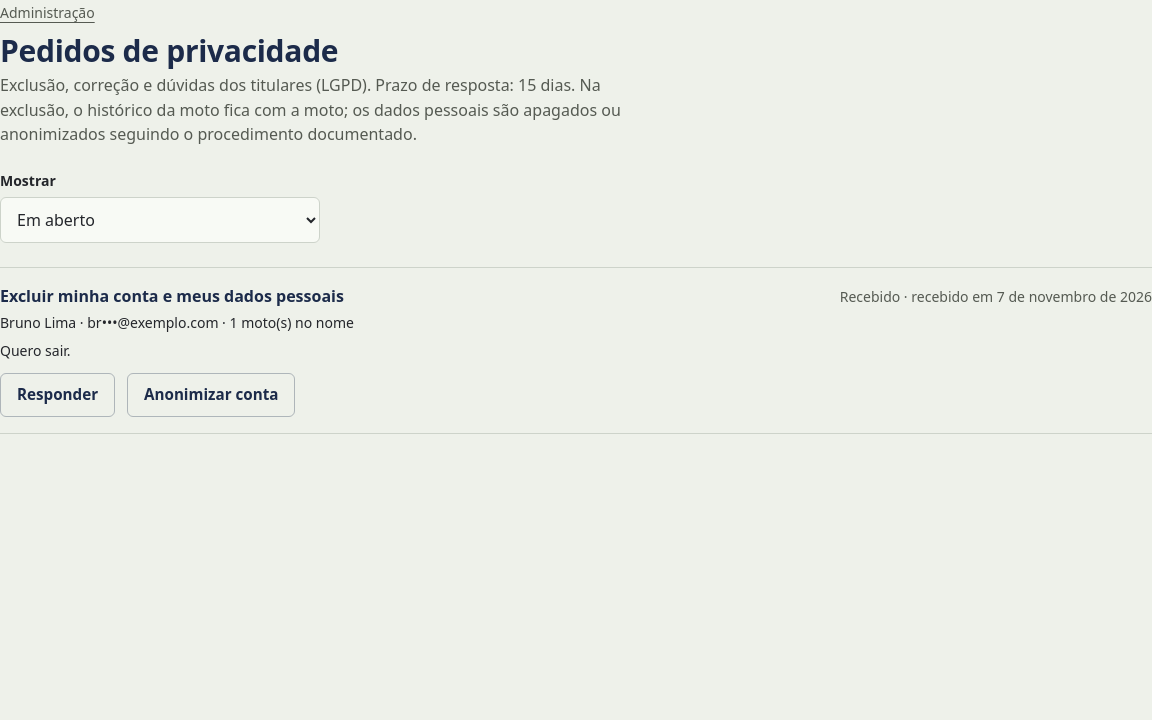
Test: Pedidos de privacidade no admin › responde com resposta ao titular e motivo
Check: the text "Bruno Lima · br•••@exemplo.com · 1 moto(s) no nome" is shown, box x1=0 y1=313 x2=354 y2=332
Step 1. Click the button "Responder" → (58, 395), box x1=0 y1=373 x2=115 y2=417
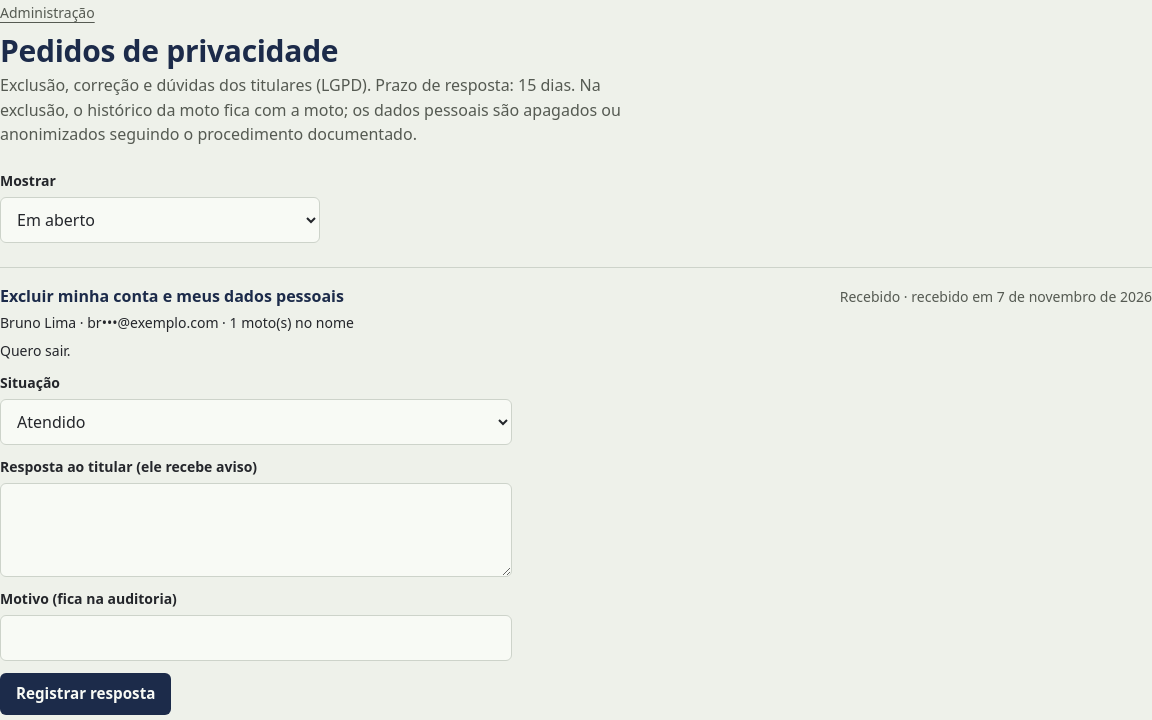
Step 2. Click the button "Registrar resposta" → (86, 694), box x1=0 y1=673 x2=171 y2=715
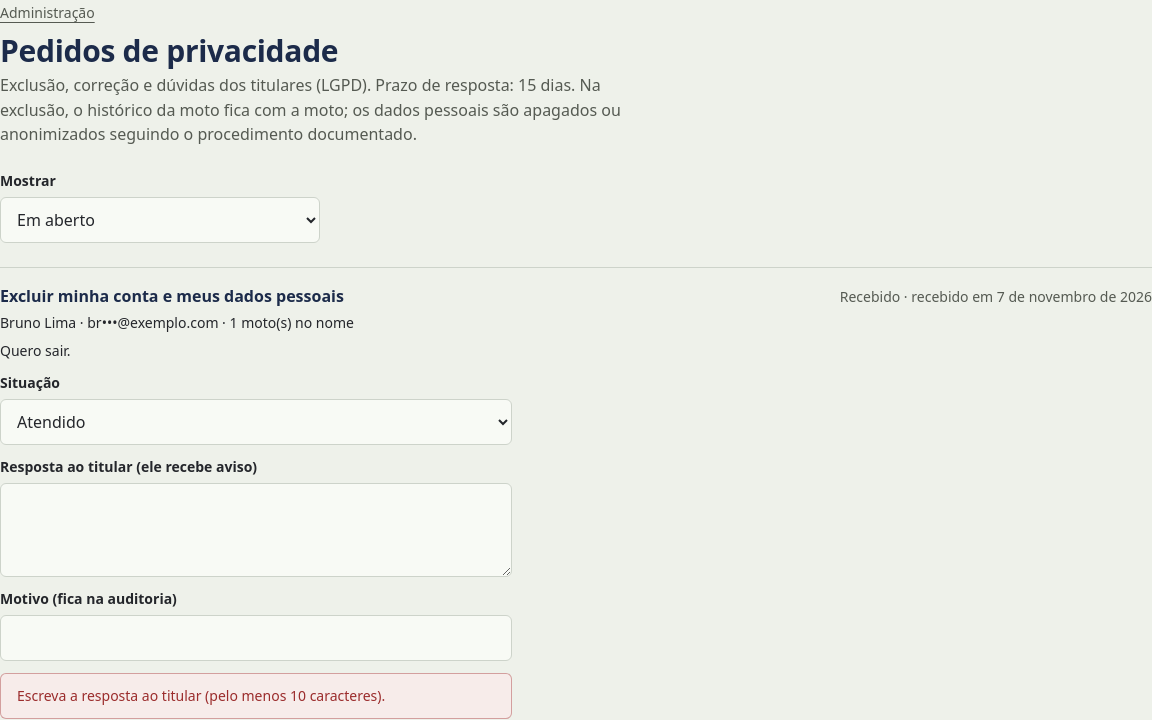
Check: the text "Escreva a resposta ao titular (pelo menos 10 caracteres)." is shown, box x1=17 y1=686 x2=385 y2=705
Step 3. Type "Sua conta foi excluída e os dados anonimizados." into the text box labelled "Resposta ao titular (ele recebe aviso)" → (256, 530), box x1=0 y1=483 x2=512 y2=577
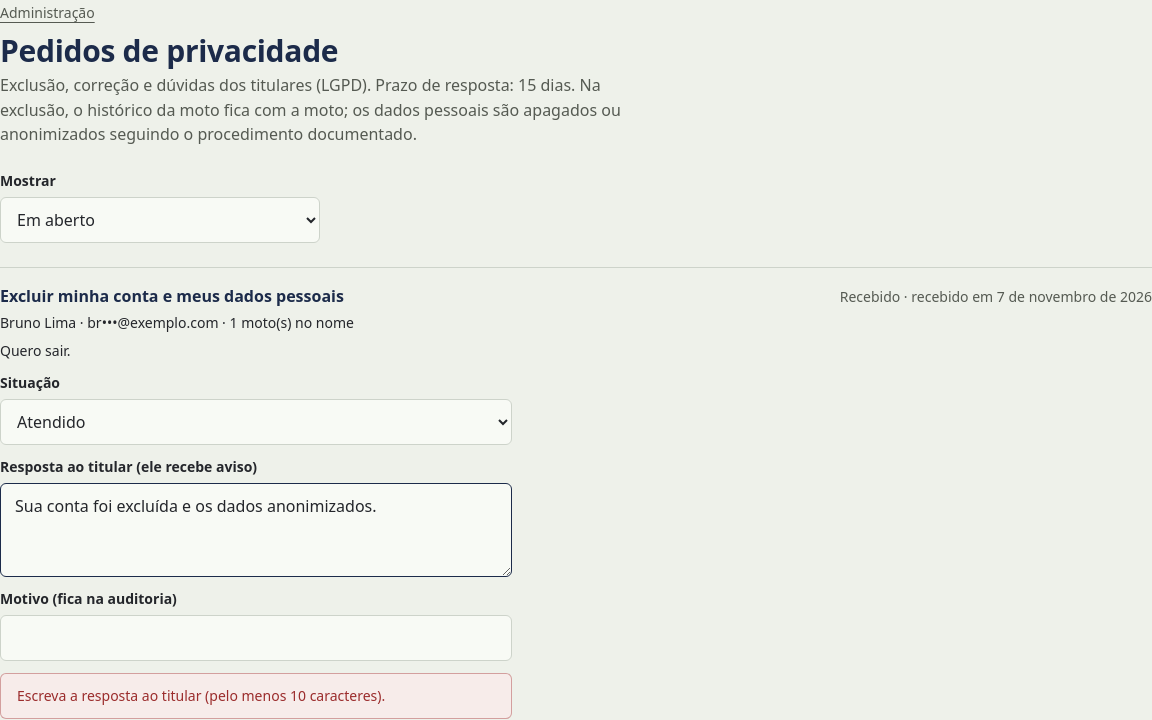
Step 4. Type "Exclusão conforme procedimento LGPD" into the field labelled "Motivo (fica na auditoria)" → (256, 638), box x1=0 y1=615 x2=512 y2=661
(page scrolled)
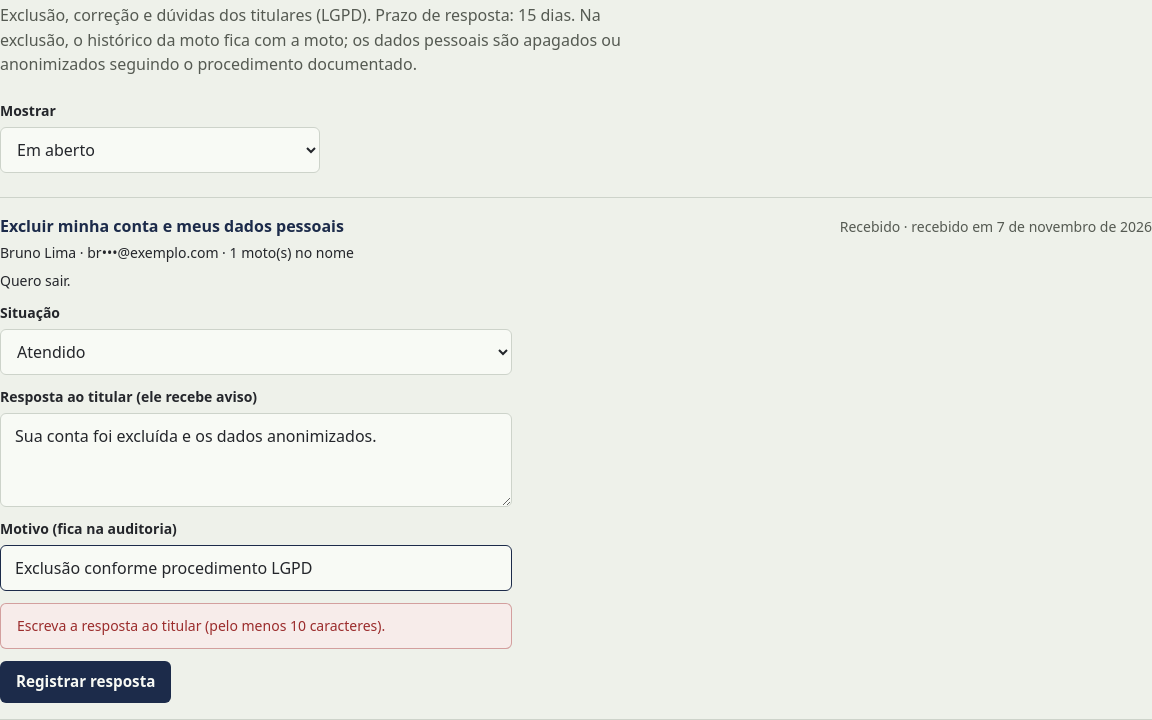
Step 5. Click the button "Registrar resposta" → (86, 682), box x1=0 y1=661 x2=171 y2=703
(page scrolled)
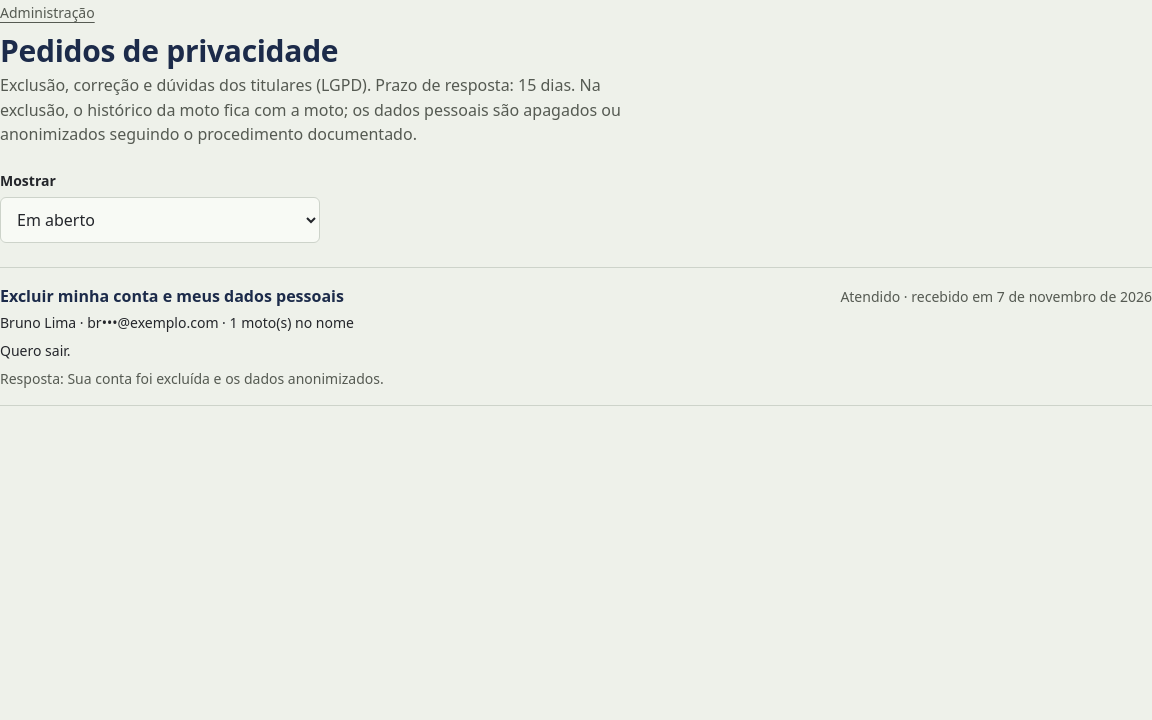
Check: the text "Resposta: Sua conta foi excluída e os dados anonimizados." is shown, box x1=0 y1=369 x2=384 y2=388
